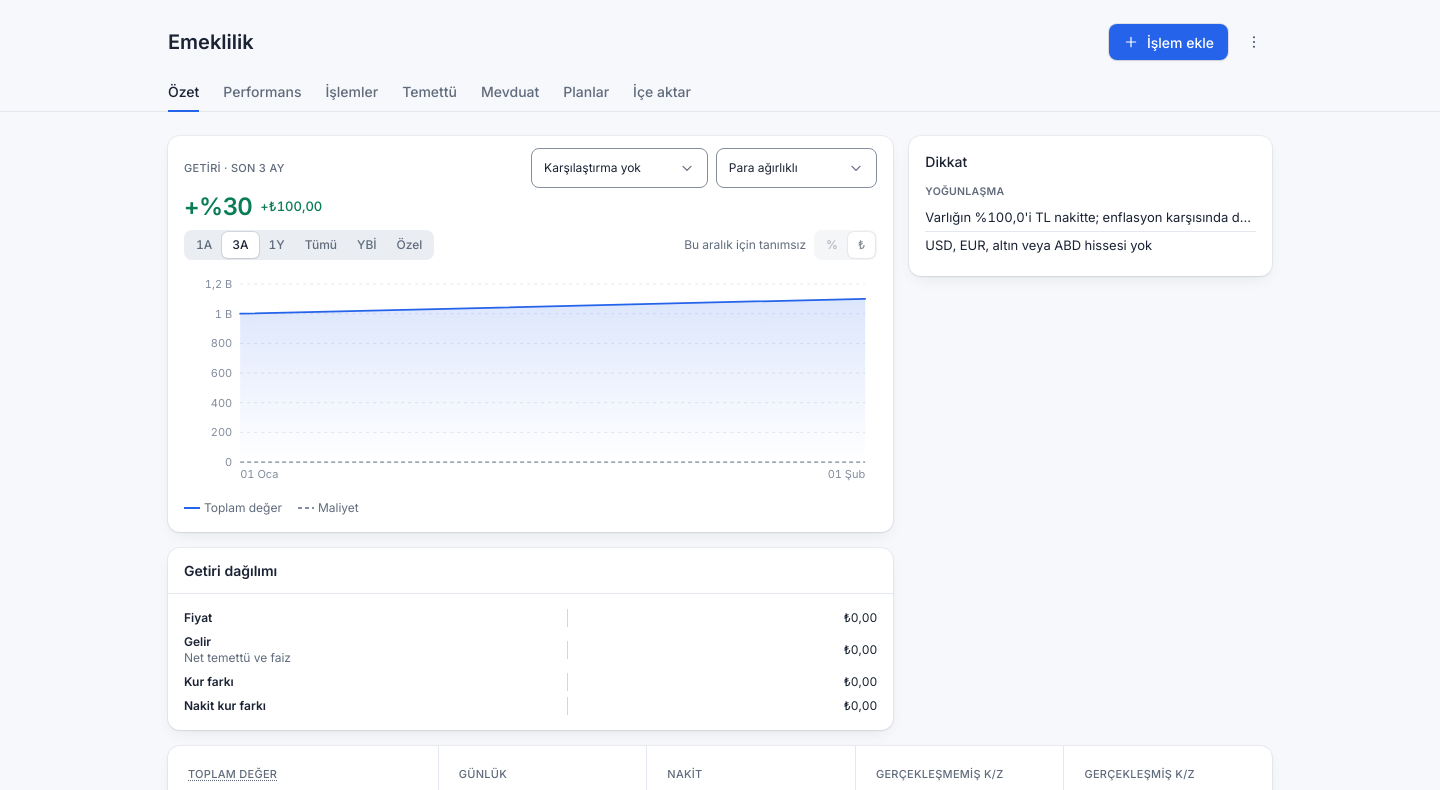
SummaryPage › shows the chosen return method in the chart header and remembers it
Expected: the heading "Getiri · son 3 ay" is shown, [184,161,285,175]
Click the dropdown named "Getiri yöntemi" at coordinates (797, 168), box [716,148,877,188]
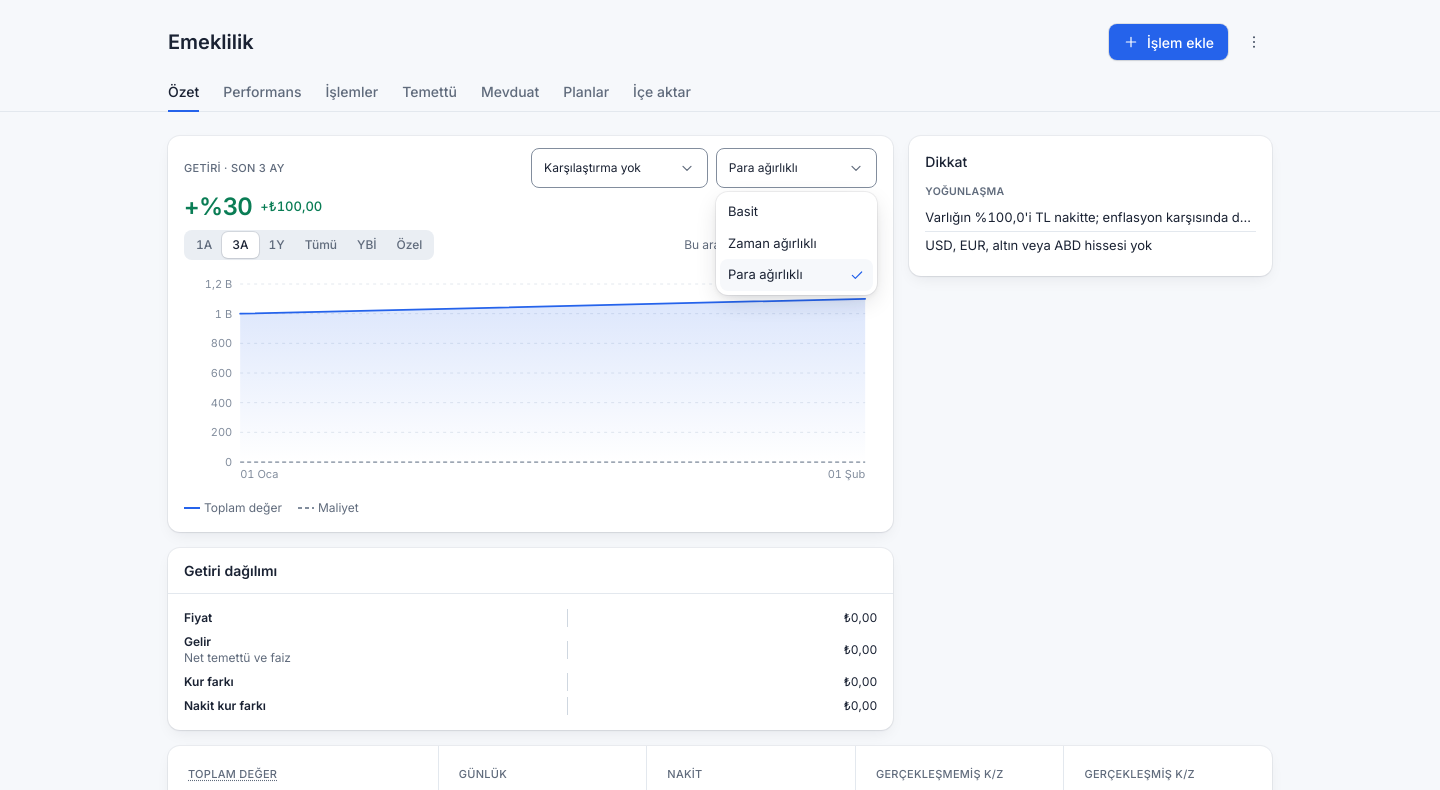
Expected: the list is shown, [720,196,873,290]
Click the option "Basit" at coordinates (743, 211), box [728,203,758,219]
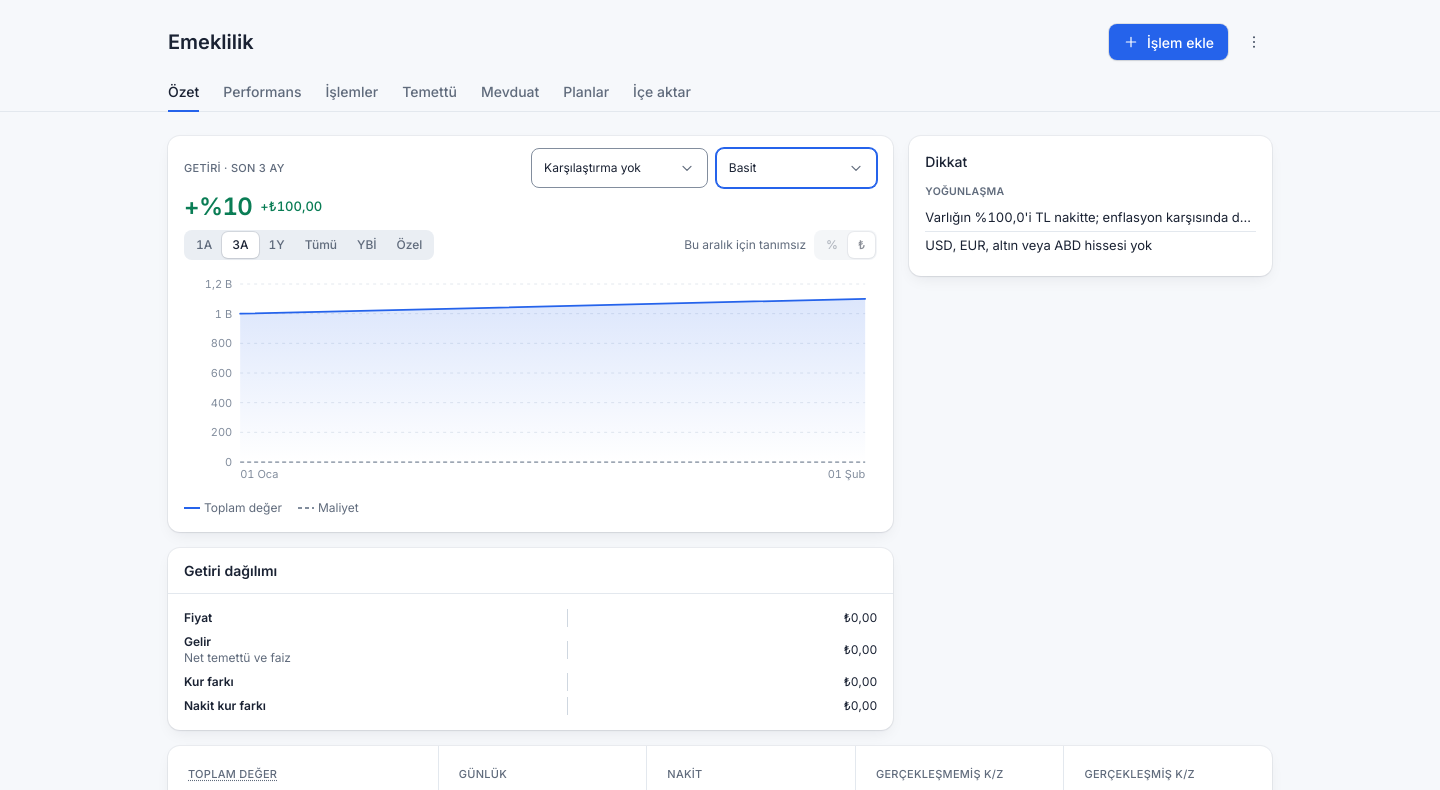
Expected: the list "Basit Zaman ağırlıklı Para ağırlıklı" is gone
